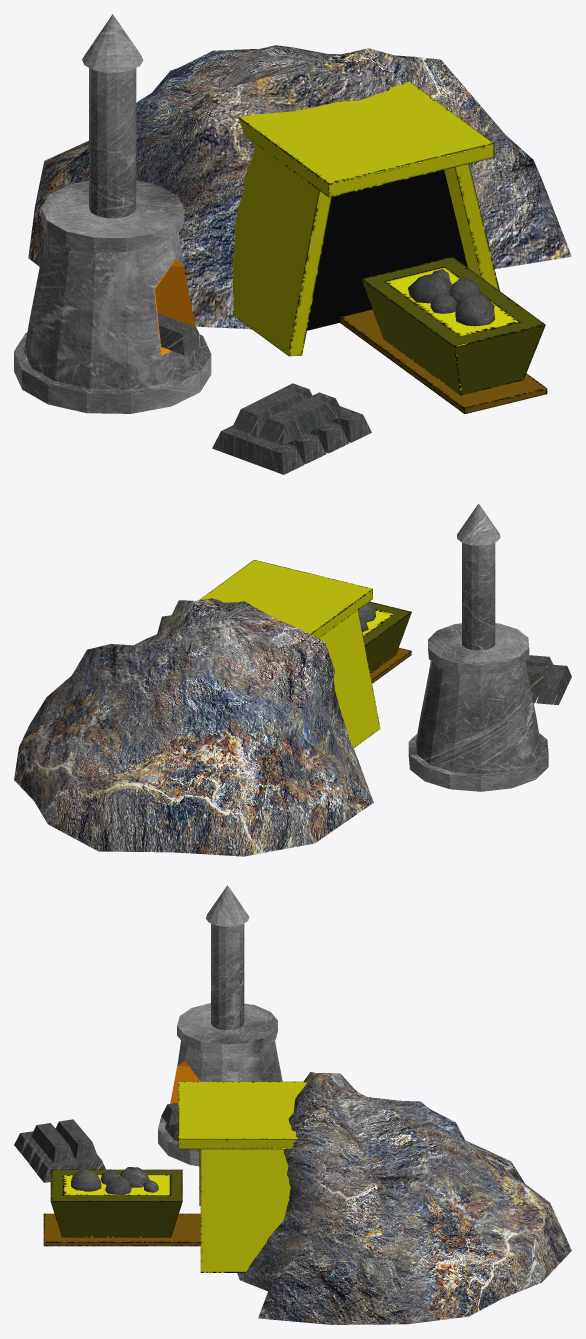
File: iron_mine.fbx
The picture shows the model from 3 angles, top to bottom: view 1: azimuth 30°, elevation 25°; view 2: azimuth 150°, elevation 25°; view 3: azimuth 270°, elevation 25°; orthographic projection. The views are drawn at different scales.
Parts seen in each view (by area): view 1: iron_mine_mesh; view 2: iron_mine_mesh; view 3: iron_mine_mesh.
Part boxes in pixels (x1,y1,x2,y2): iron_mine_mesh: (14,14,571,474); iron_mine_mesh: (14,503,571,856); iron_mine_mesh: (14,885,571,1324).
Size of the model in its own units: 21.37 by 13.05 by 24.72.
